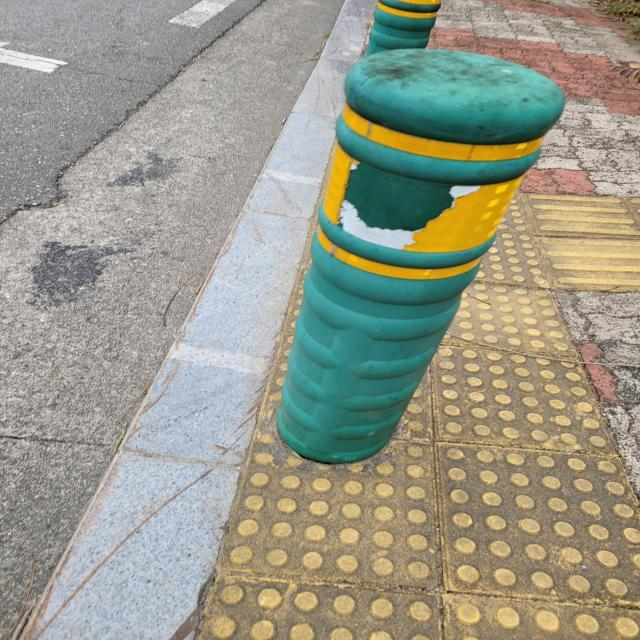pole: (282, 48, 556, 467)
